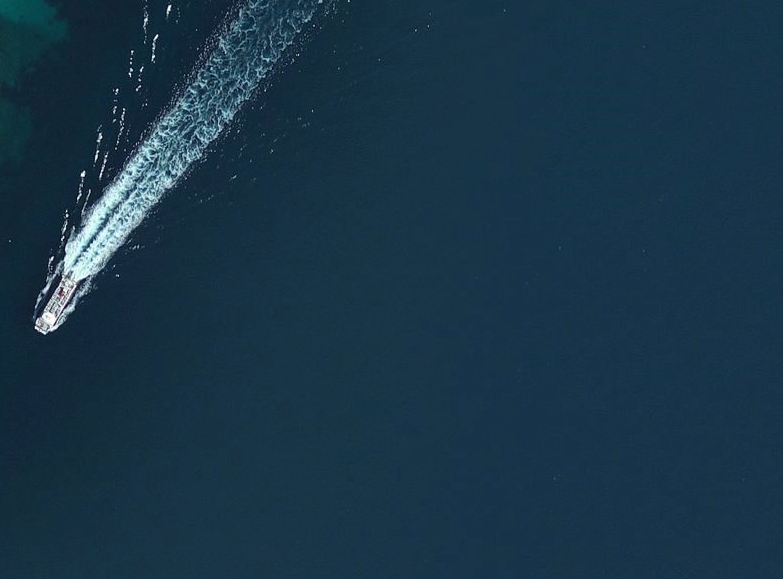ship: (27, 273, 84, 345)
